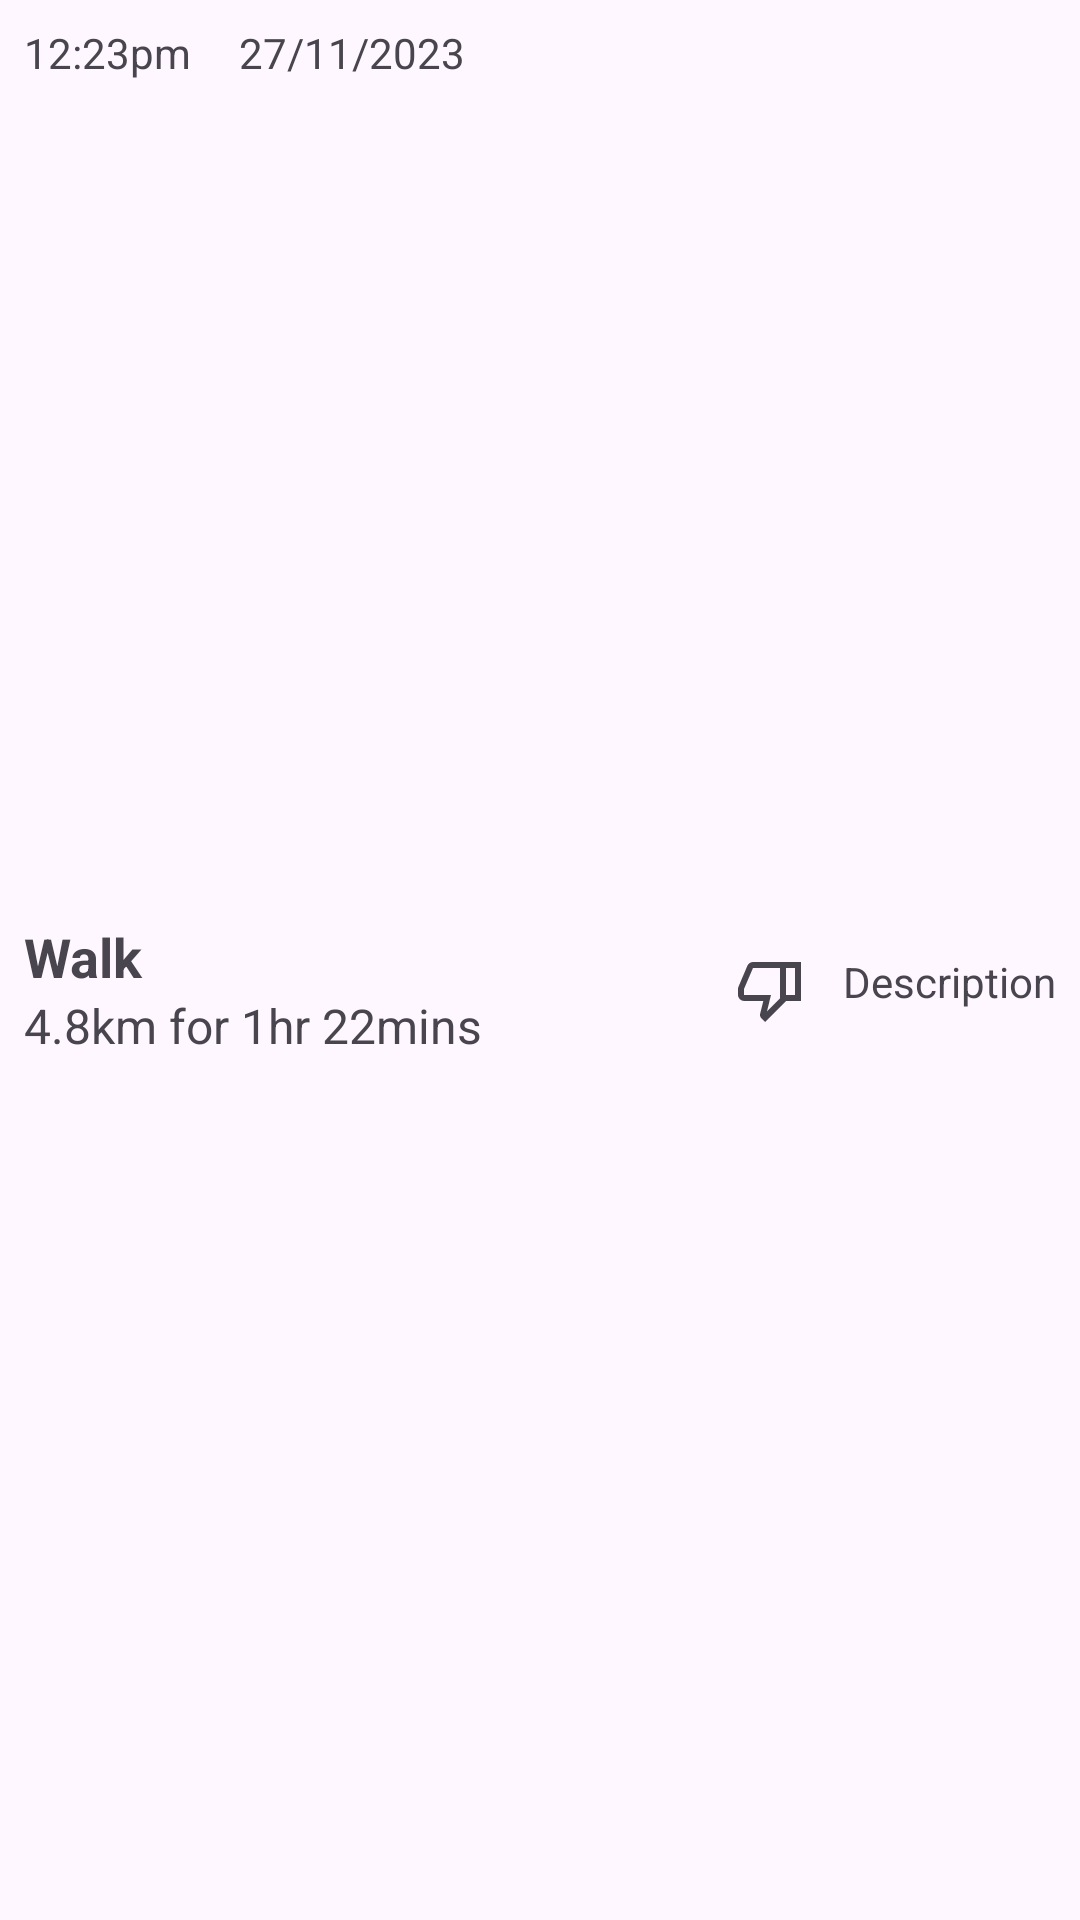

Icons on this 1080×1920 Android screen, each with its box as [x1,y1,x2,y2]:
Thumbs down: [738,962,801,1022]
